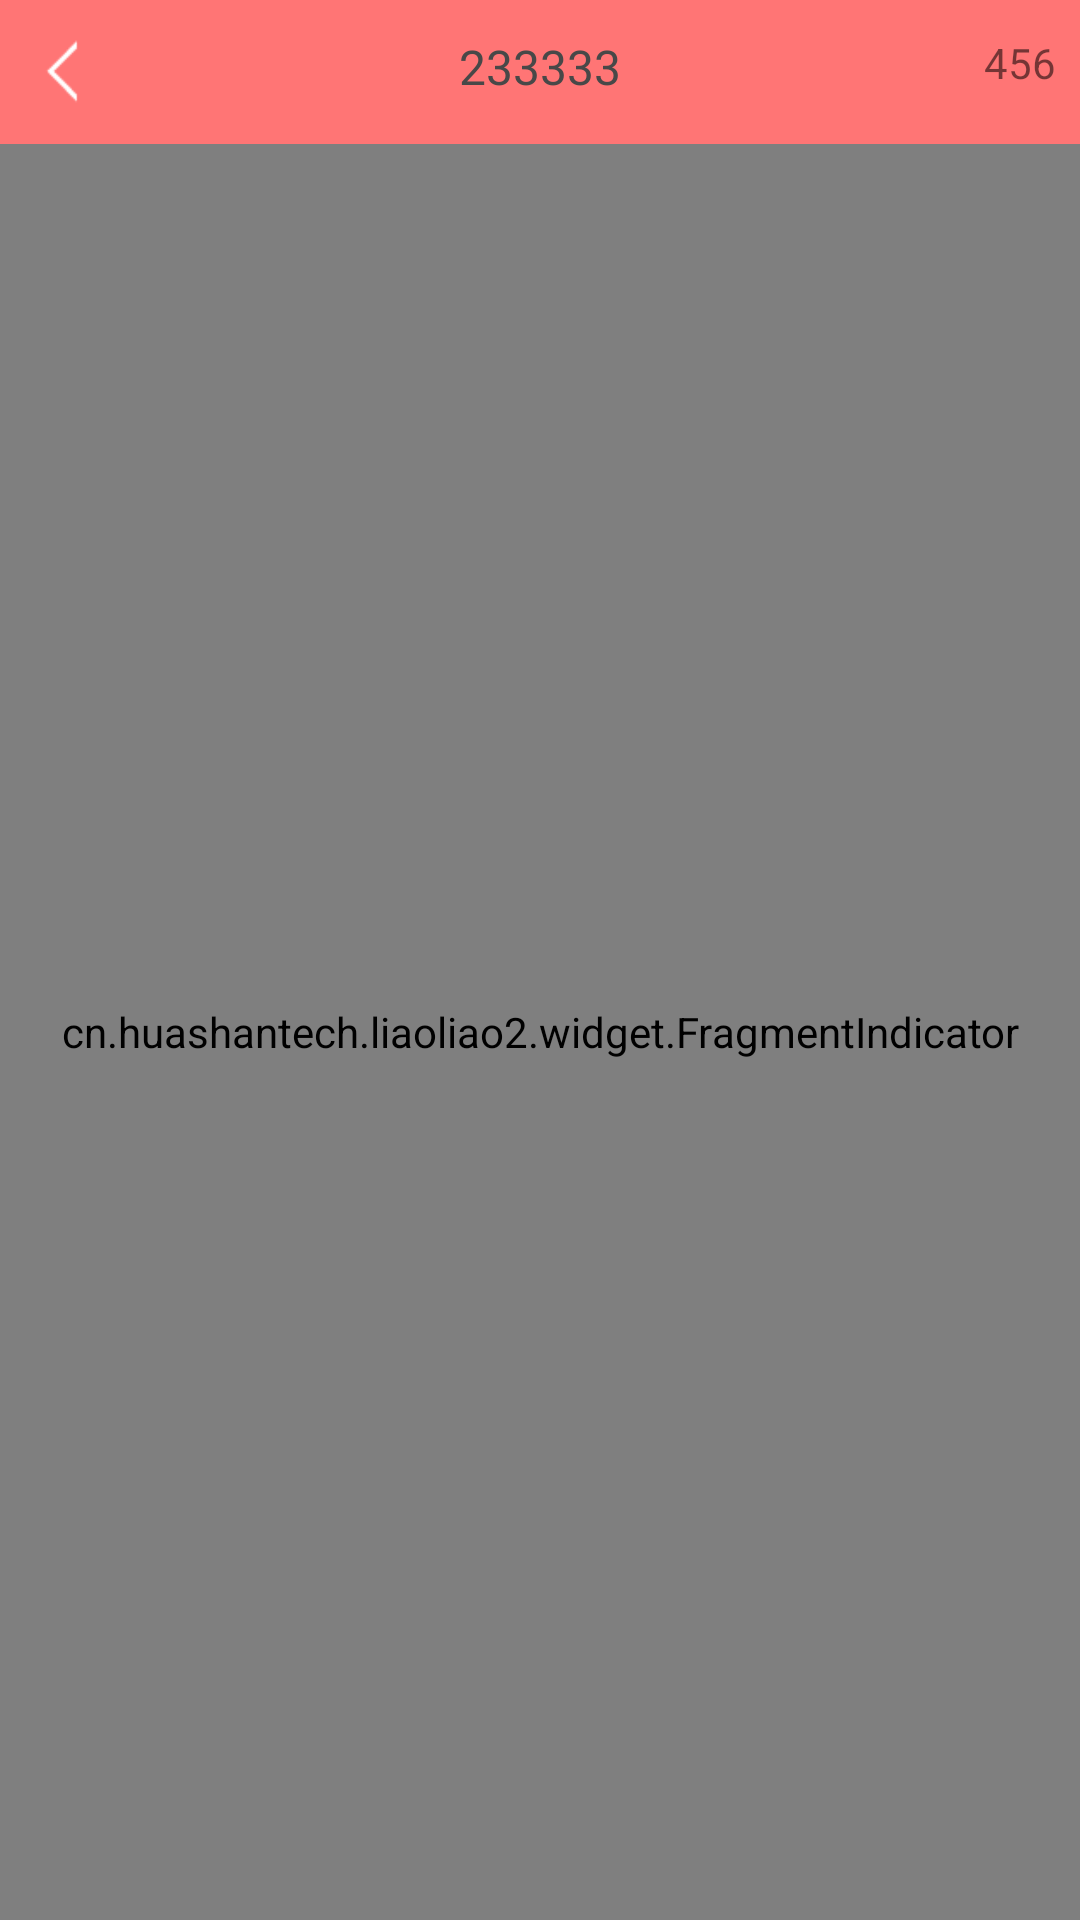

Icons on this 1080×1920 Android screen, each with its box as (x1, y1, x2, y2):
back: (47, 41, 77, 101)
